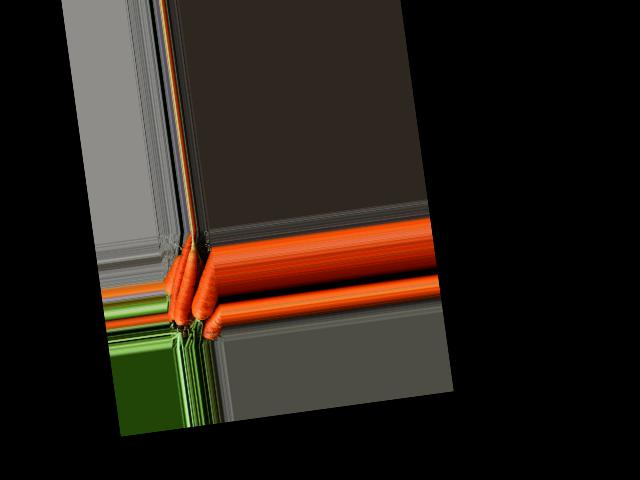carrot: (197, 296, 223, 326)
